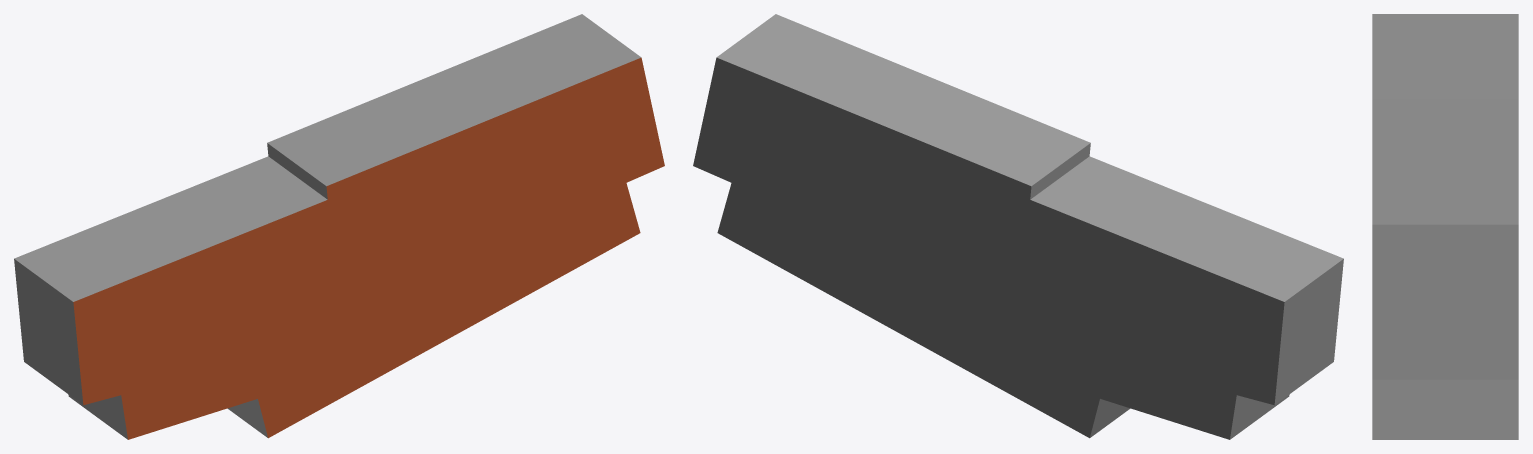
File: construction_5512_assumed_A_Casa_h6m.obj
3 views of the same model, side by side, from view 1: azimuth 30°, elevation 25°; view 2: azimuth 150°, elevation 25°; view 3: azimuth 270°, elevation 25° (orthographic). The views are drawn at different scales.
Parts seen in each view (by area): view 1: construction_5512_assumed_A_Casa; view 2: construction_5512_assumed_A_Casa; view 3: construction_5512_assumed_A_Casa.
Boxes of the visible parts, x1,y1,x2,y2 form: construction_5512_assumed_A_Casa: [14, 14, 664, 439]; construction_5512_assumed_A_Casa: [693, 14, 1343, 439]; construction_5512_assumed_A_Casa: [1372, 14, 1518, 439].
Size of the model in its own units: 34.5 by 16.15 by 6.
